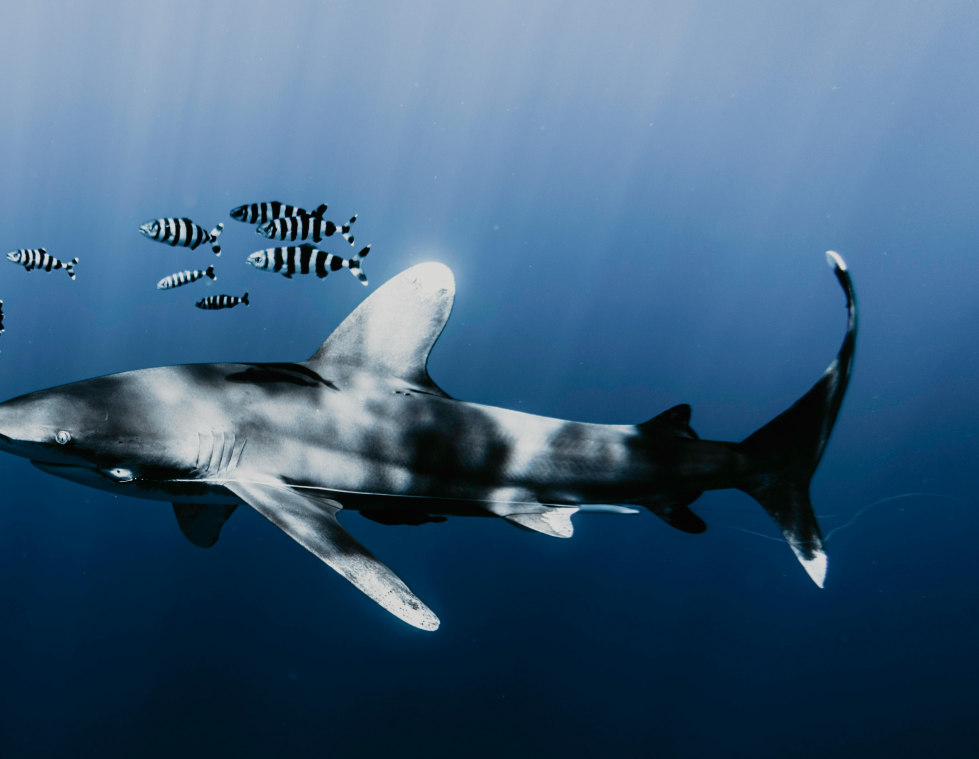fishLarge: (243, 241, 376, 288), (257, 210, 364, 248), (136, 215, 225, 256), (4, 244, 82, 284), (228, 199, 329, 229), (152, 262, 215, 296), (196, 291, 253, 314)
shark: (0, 247, 863, 636)
